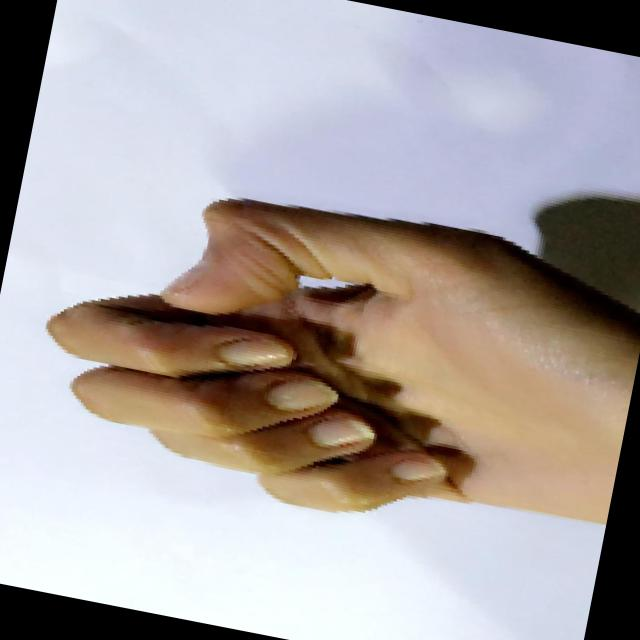Nail: (266, 379, 336, 411), (307, 413, 372, 446), (218, 338, 291, 367), (390, 454, 445, 481), (169, 258, 204, 289)
